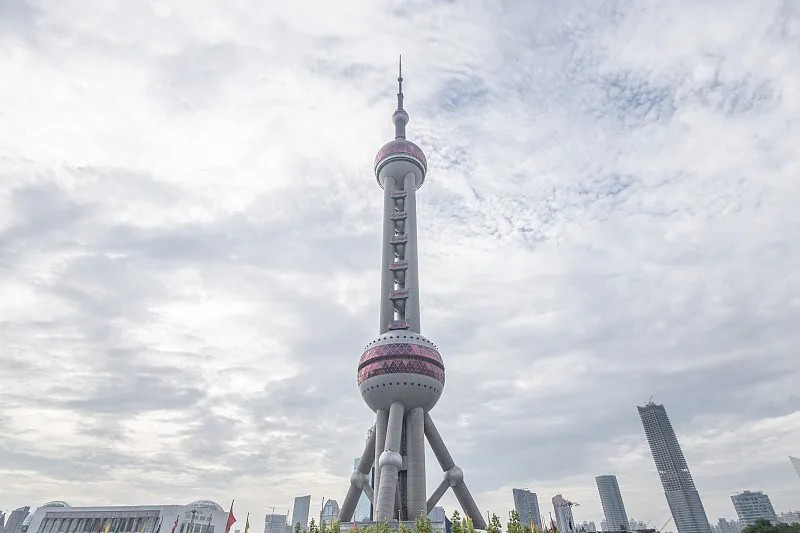Oriental: (338, 55, 487, 528)
